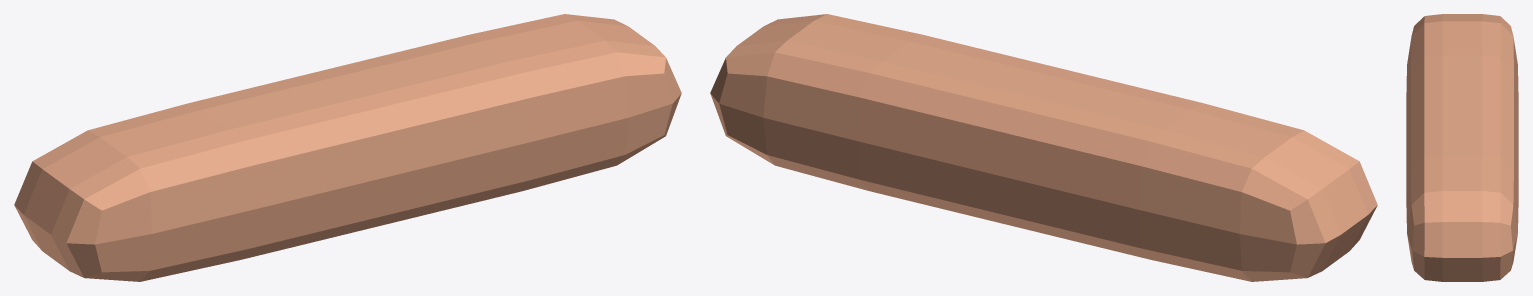
Rendered from Guling.fbx.
3 views of the same model, side by side, from view 1: azimuth 30°, elevation 25°; view 2: azimuth 150°, elevation 25°; view 3: azimuth 270°, elevation 25° (orthographic). The views are drawn at different scales.
Visible parts, largest first — view 1: Cube.002; view 2: Cube.002; view 3: Cube.002.
Boxes of the visible parts, x1,y1,x2,y2 form: Cube.002: [14, 14, 681, 281]; Cube.002: [710, 14, 1377, 281]; Cube.002: [1406, 14, 1518, 281].
Size of the model in its own units: 78.99 by 15 by 17.
